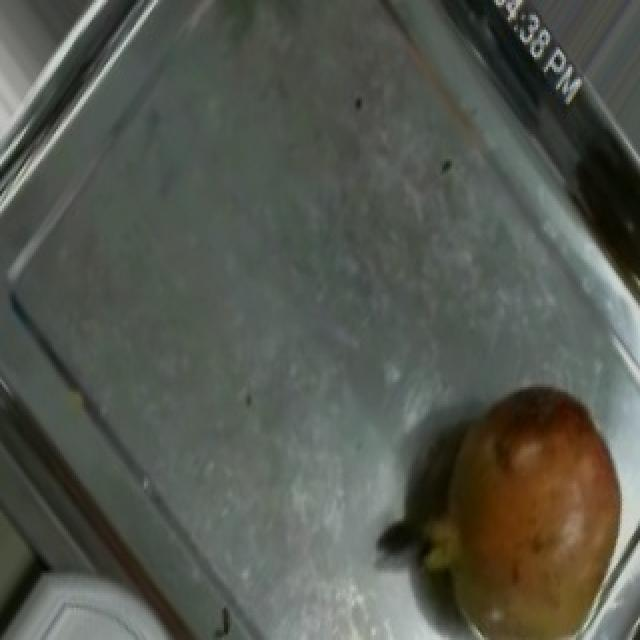fruit: (410, 352, 640, 628)
